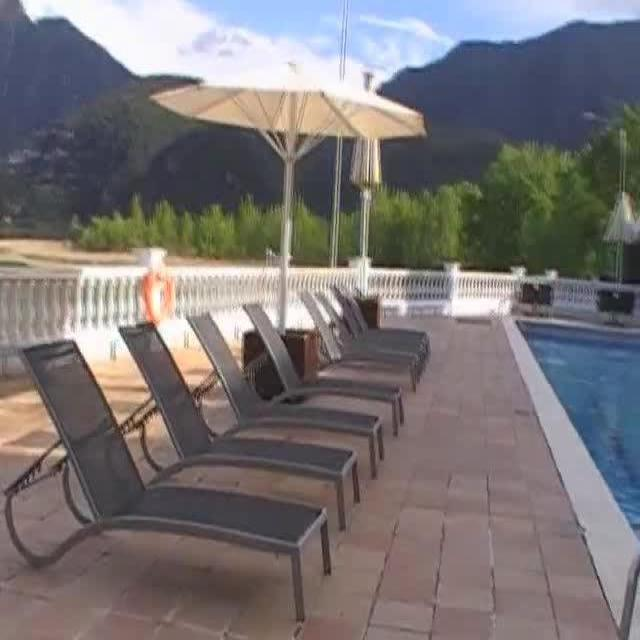other: (213, 56, 424, 118), (48, 300, 340, 342)
